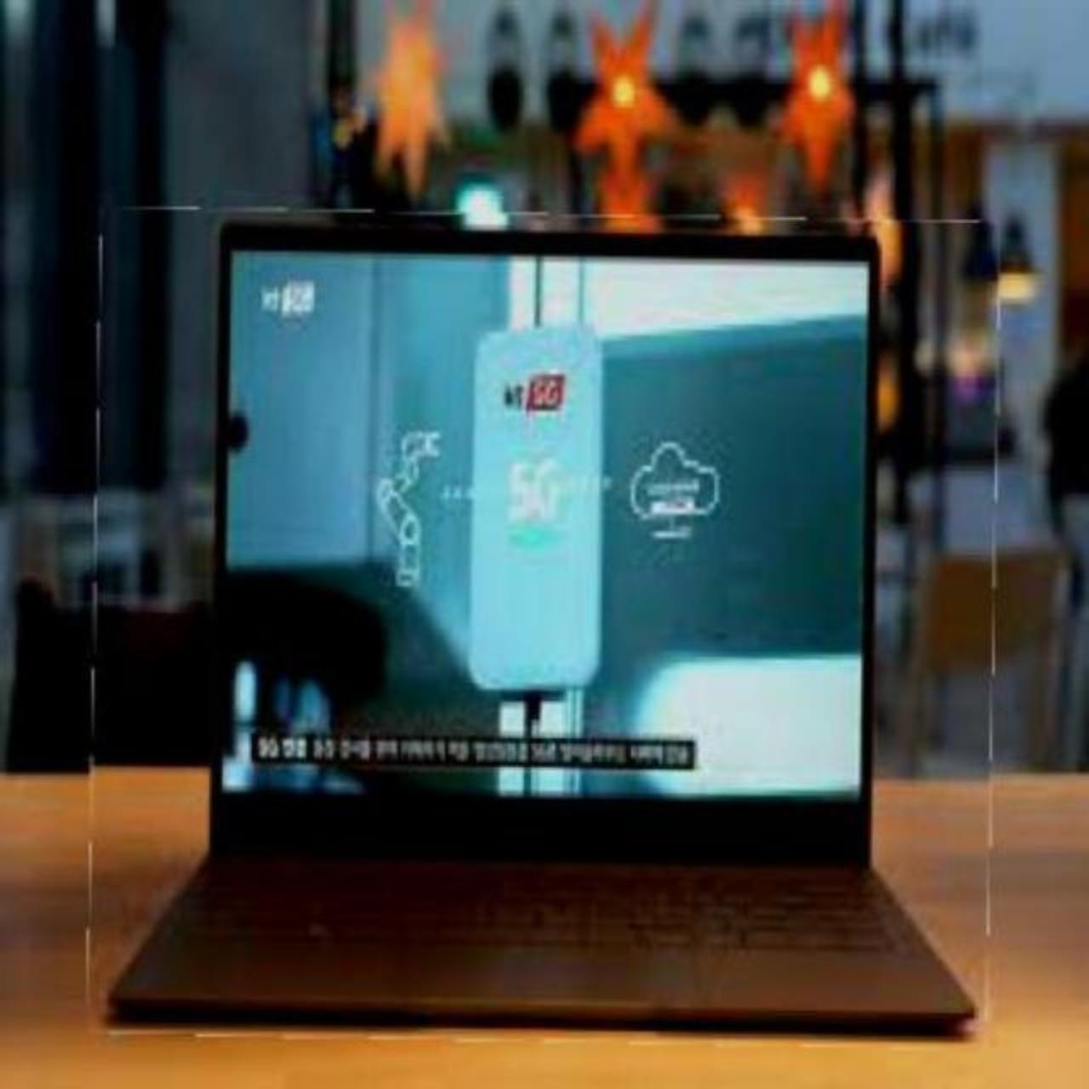laptop: (92, 211, 997, 1045)
